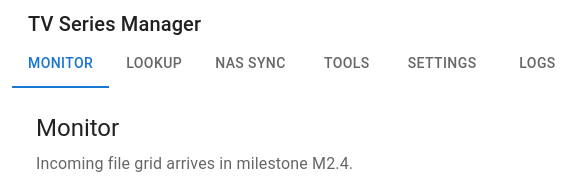
Scenario: App › tab navigation › clicking the NAS Sync tab renders the NAS Sync page
The width and height of the screenshot is (572, 189).
Click the tab "NAS Sync": [250, 64] box [199,40,302,88]
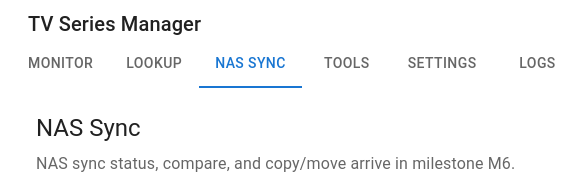
expect the heading "NAS Sync" is shown: met, box [36,114,141,142]
